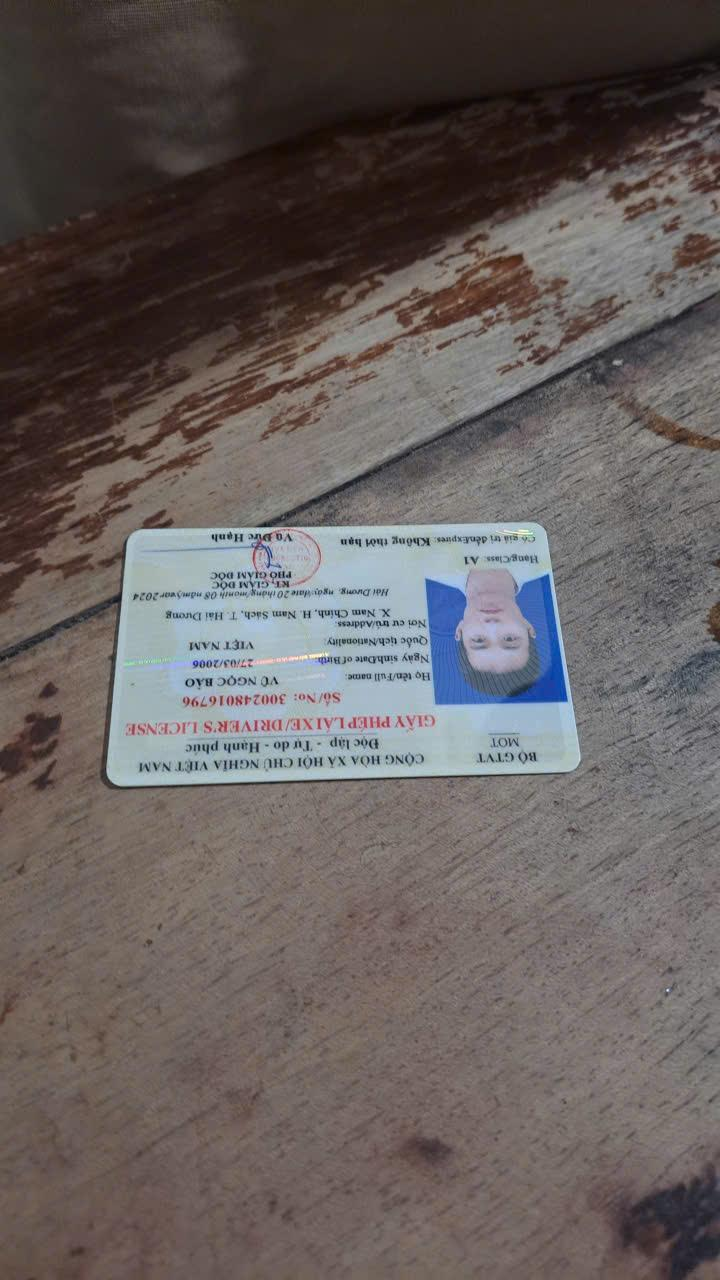gplx: (104, 513, 588, 792)
